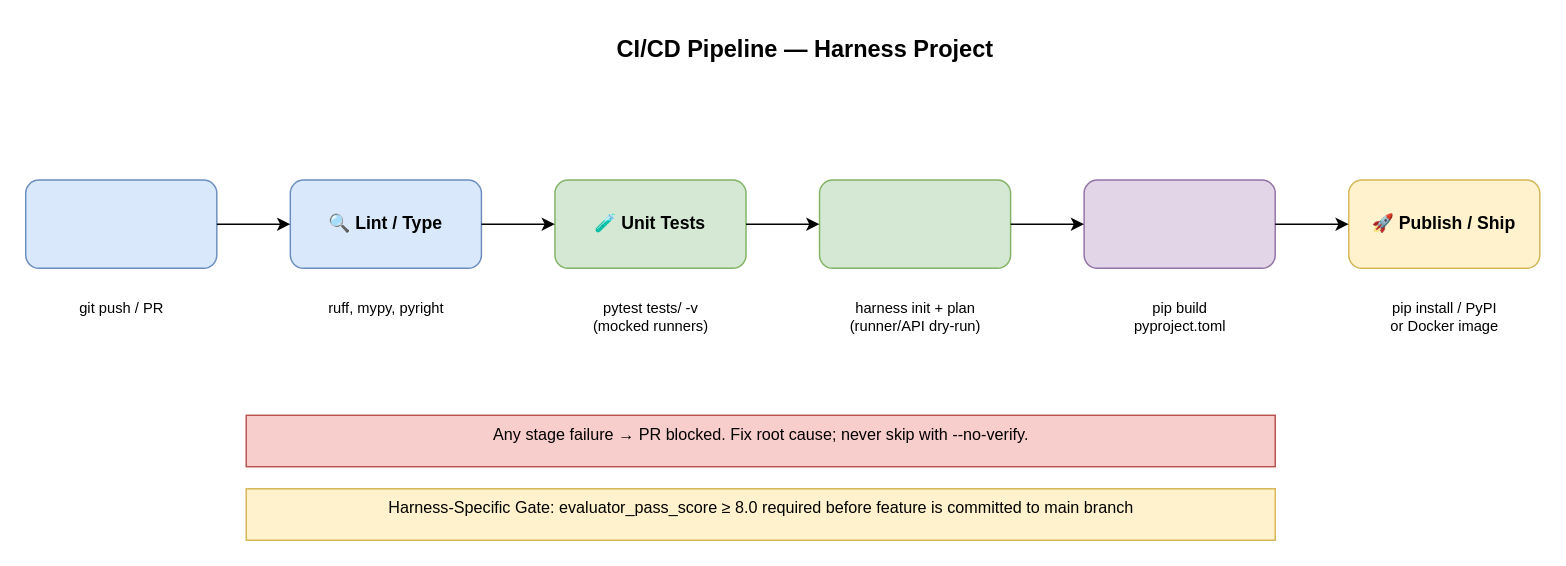
This 1566x566 diagram has some shape labels left out. The shapes that lost their labels are listed below. From the top down, each one's centre as x and y in pixels, then its label:
pixel 120 223: 📝 Code
pixel 914 223: 🔗 Integration Tests
pixel 1179 223: 📦 Build
